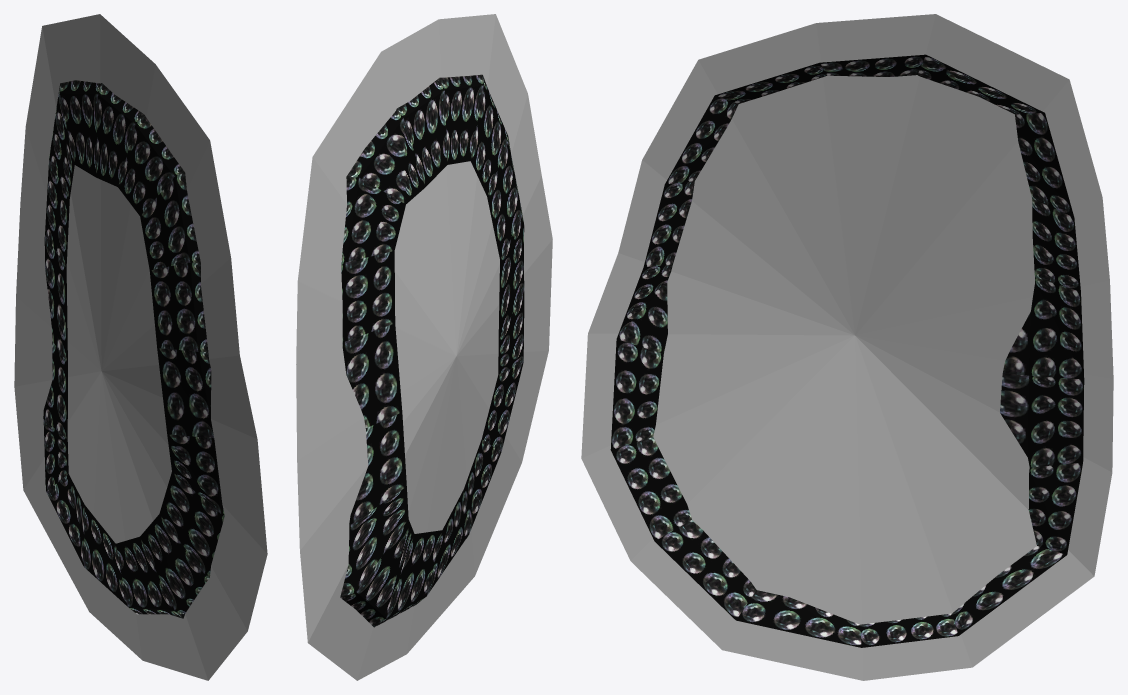
Rendered from tx_cj_common_chuansongmen_02.obj.
3 views of the same model, side by side, from view 1: azimuth 30°, elevation 25°; view 2: azimuth 150°, elevation 25°; view 3: azimuth 270°, elevation 25° (orthographic). The views are drawn at different scales.
Parts seen in each view (by area): view 1: Plane03, Plane04; view 2: Plane03, Plane04; view 3: Plane03, Plane04.
Boxes of the visible parts, <box> form: Plane03: <box>14,14,267,680</box>; Plane04: <box>43,80,224,618</box>; Plane03: <box>296,14,552,680</box>; Plane04: <box>340,74,524,627</box>; Plane03: <box>581,14,1113,680</box>; Plane04: <box>610,54,1084,647</box>.
Size of the model in its own units: 23.74 by 272 by 198.
